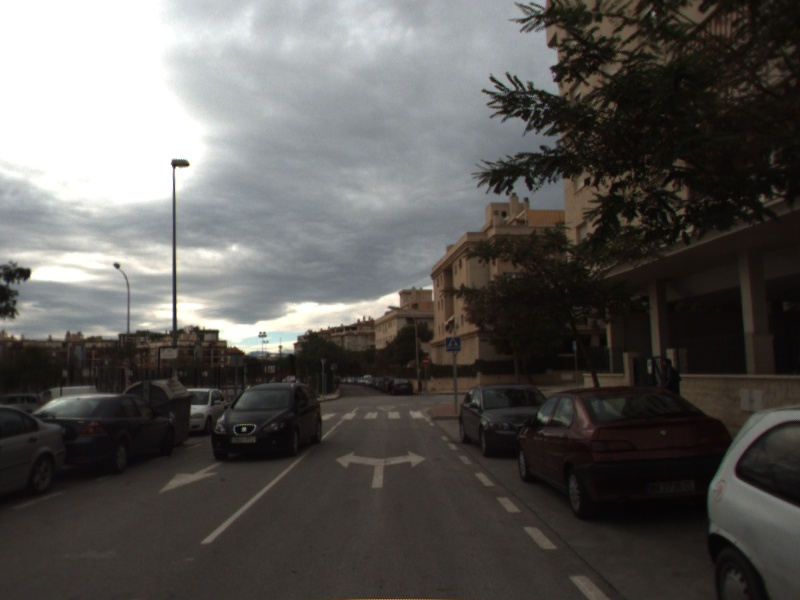LEFT_RIGHT: (333, 448, 428, 490)
